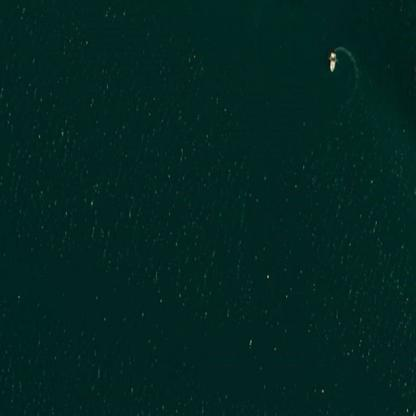ship: (328, 33, 336, 57)
